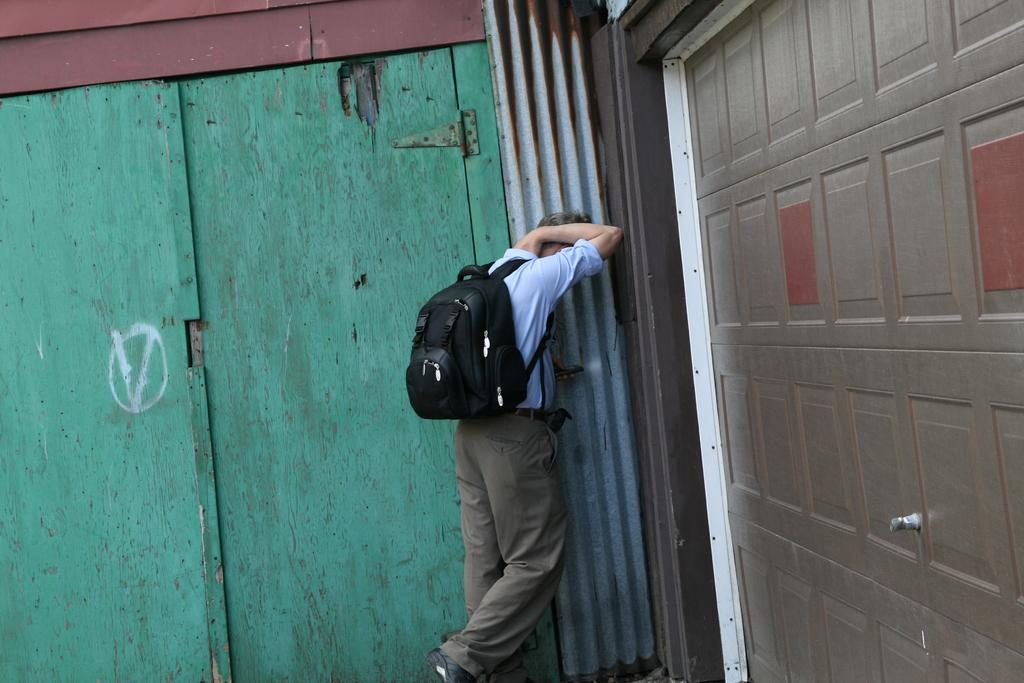Luggage-and-bags: (403, 254, 557, 422)
